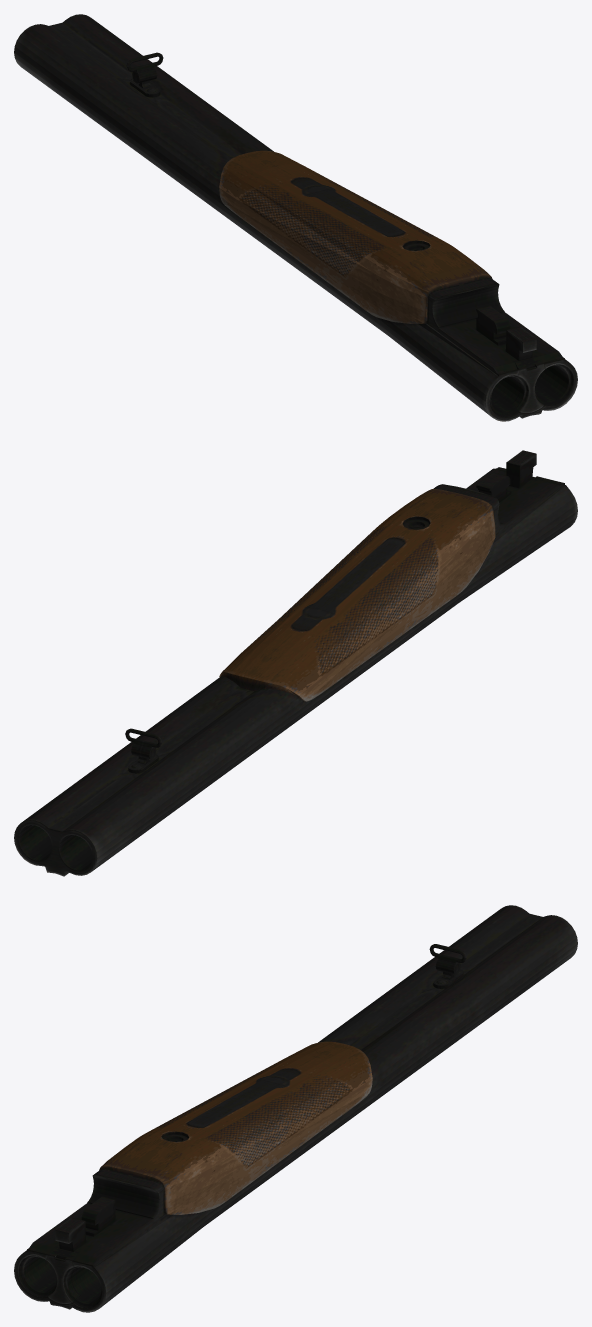
3 renders of one model, top to bottom at view 1: azimuth 30°, elevation 25°; view 2: azimuth 150°, elevation 25°; view 3: azimuth 330°, elevation 25°, orthographic.
Visible parts, largest first — view 1: TW_5580169d4bdc2d9d138b4585_PZ_Import; view 2: TW_5580169d4bdc2d9d138b4585_PZ_Import; view 3: TW_5580169d4bdc2d9d138b4585_PZ_Import.
Boxes of the visible parts, x1,y1,x2,y2 form: TW_5580169d4bdc2d9d138b4585_PZ_Import: (14, 14, 577, 421); TW_5580169d4bdc2d9d138b4585_PZ_Import: (14, 450, 577, 876); TW_5580169d4bdc2d9d138b4585_PZ_Import: (14, 905, 577, 1312).
Size of the model in its own units: 0.033 by 0.2948 by 0.0313.
1 material, 1 textured.
